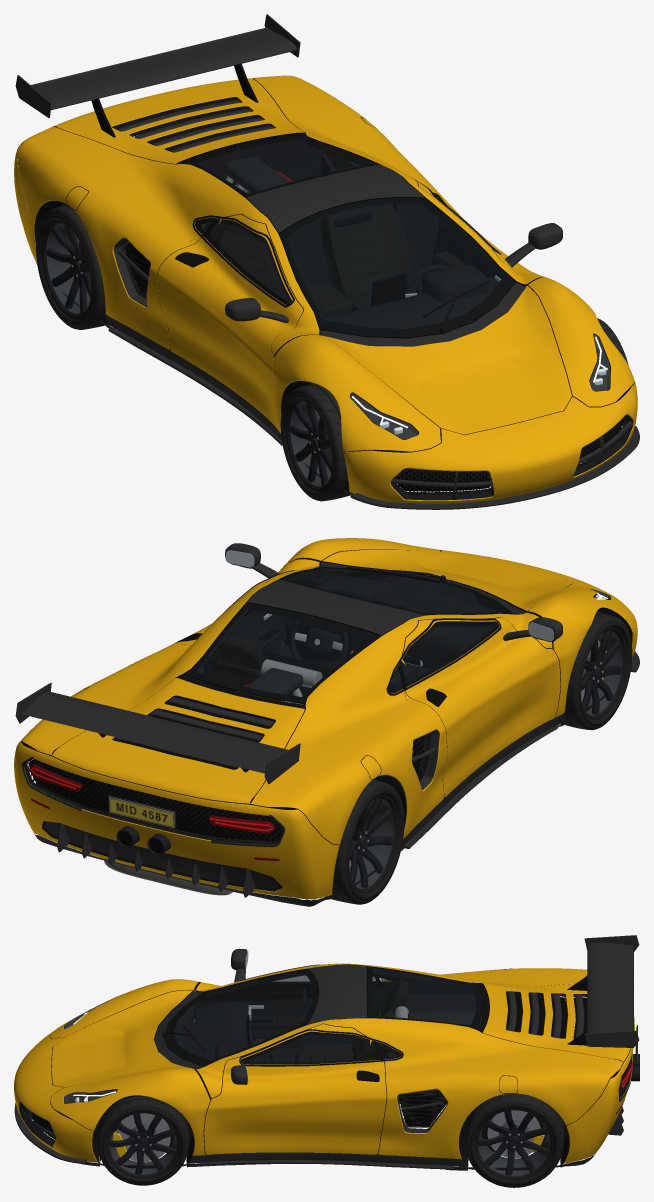
The model's file is mid-engine-supercar.glb.
3 renders of one model, top to bottom at view 1: azimuth 30°, elevation 25°; view 2: azimuth 150°, elevation 25°; view 3: azimuth 270°, elevation 25°, orthographic. The views are drawn at different scales.
Parts seen in each view (by area): view 1: Body, Wheel_RR, Wheel_FR; view 2: Body, Wheel_RR, Wheel_FR, Steering_Wheel; view 3: Body, Wheel_RL, Wheel_FL.
Boxes of the visible parts, x1,y1,x2,y2 form: Body: [14, 14, 639, 509]; Wheel_RR: [36, 204, 105, 329]; Wheel_FR: [280, 383, 353, 501]; Body: [14, 538, 639, 906]; Wheel_RR: [324, 779, 404, 904]; Wheel_FR: [561, 611, 632, 730]; Steering_Wheel: [289, 619, 348, 661]; Body: [14, 935, 639, 1170]; Wheel_RL: [464, 1093, 564, 1187]; Wheel_FL: [97, 1096, 189, 1185].
Bounding box in the file's own units: 2.15 × 1.16 × 4.46.
59 materials, 12 textured.
